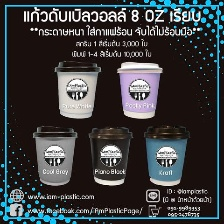paper_cup: (140, 121, 193, 190), (84, 123, 137, 189), (28, 121, 80, 188), (51, 56, 104, 120), (114, 58, 164, 122)
